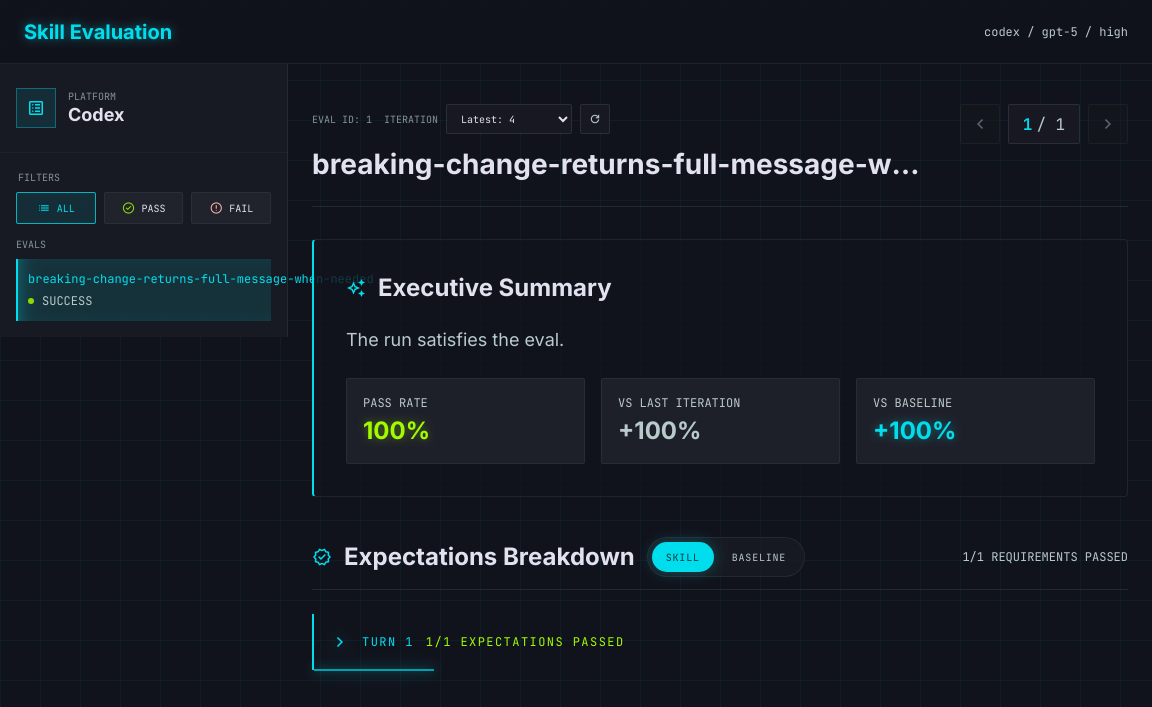
Test: does not refresh to a newer iteration when saving the active run fails
The image size is (1152, 707).
Click the button named "check for newer iteration".
click(595, 119)  # box [580,104,610,134]
(page scrolled)
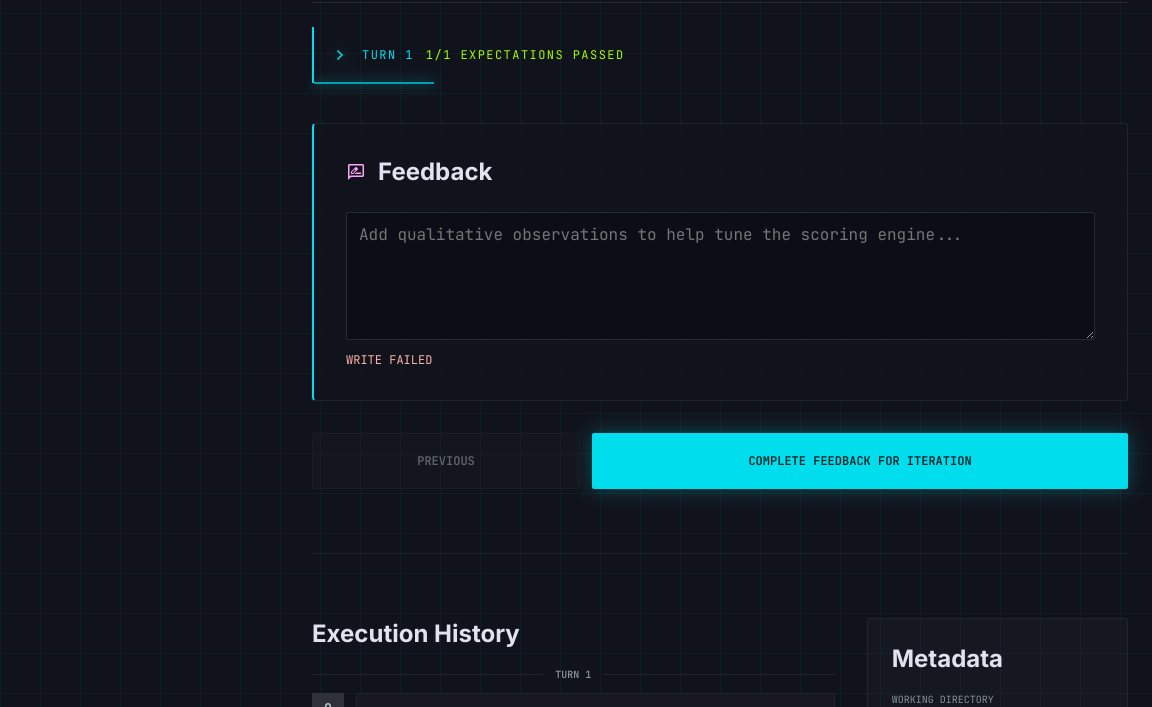
expect the text "write failed" is shown: met, box [346,352,432,368]
